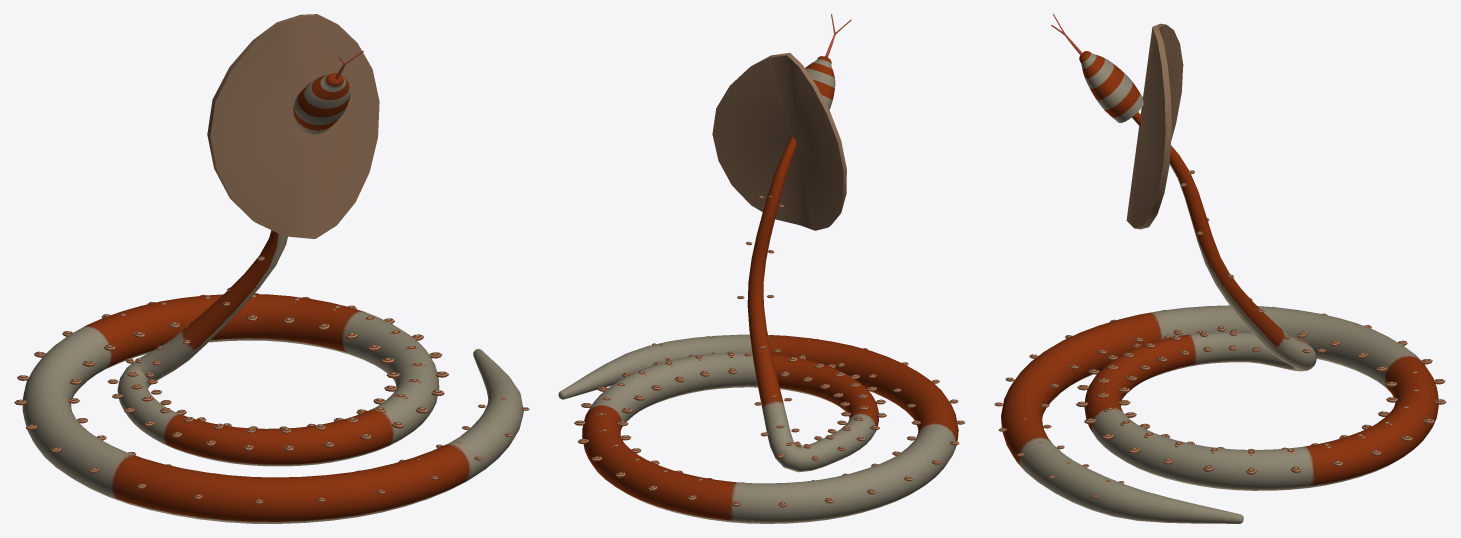
The model's file is birds-and-reptiles-hd-king-cobra-hooded-17594564__28099.glb.
3 views of the same model, side by side, from view 1: azimuth 30°, elevation 25°; view 2: azimuth 150°, elevation 25°; view 3: azimuth 270°, elevation 25° (orthographic). The views are drawn at different scales.
Parts seen in each view (by area): view 1: king-cobra-hooded; view 2: king-cobra-hooded; view 3: king-cobra-hooded.
Part boxes in pixels (x1=…): king-cobra-hooded: x1=14, y1=14, x2=529, y2=523; king-cobra-hooded: x1=558, y1=14, x2=965, y2=523; king-cobra-hooded: x1=994, y1=14, x2=1446, y2=523.
Size of the model in its own units: 1.3 by 1.26 by 1.25.
Materials: 5 (3 with a texture image).
